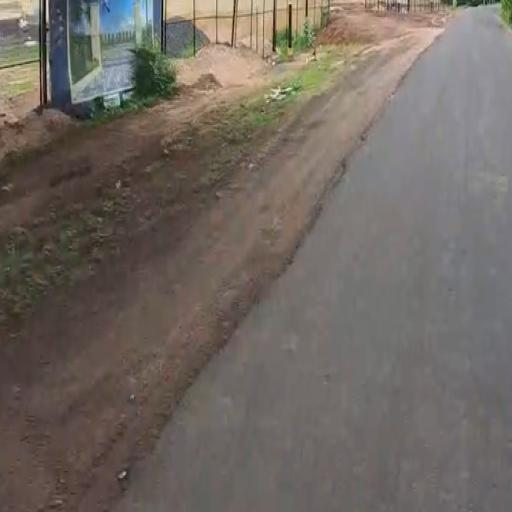edge_damage: (90, 25, 448, 491)
